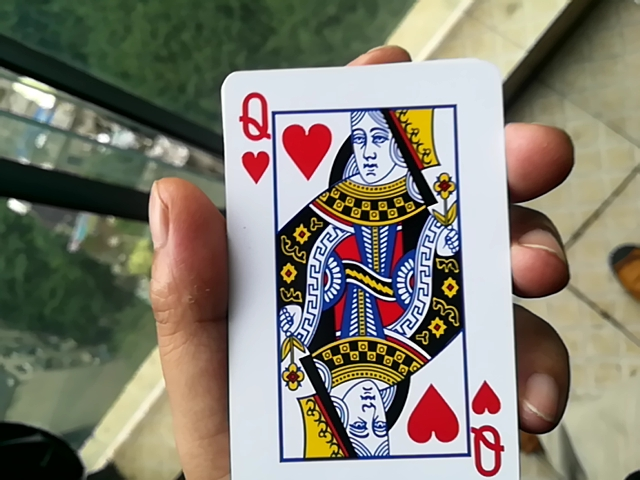hx q: (201, 56, 528, 478)
